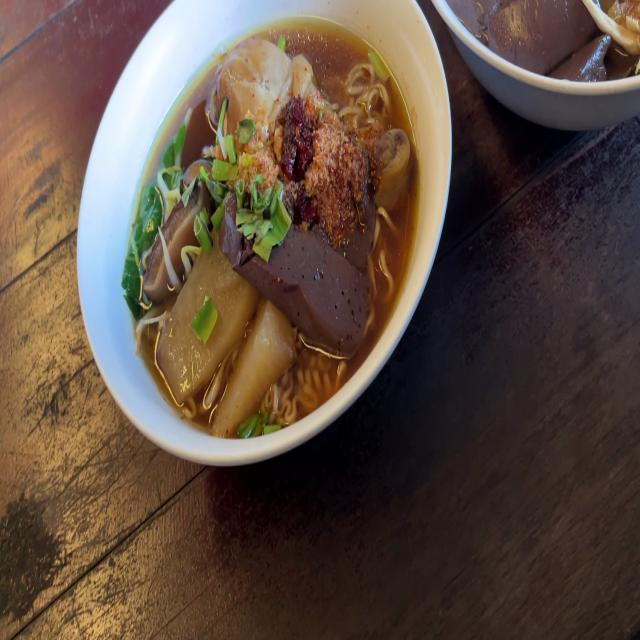noodle: (124, 0, 418, 453), (445, 0, 640, 91)
